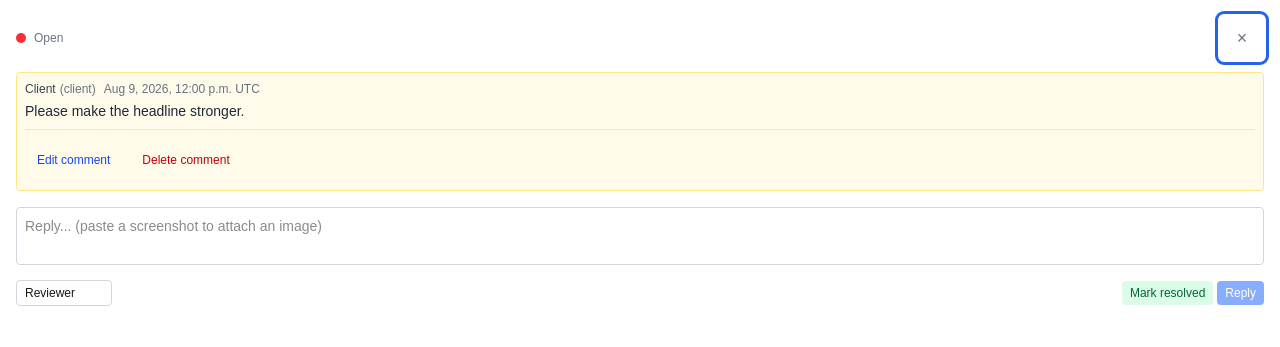
Test: PinThread comment lifecycle controls › requires an explicit confirmation before deleting a comment
Click the button "Delete comment" at (186, 160), box [130,138,242,182]
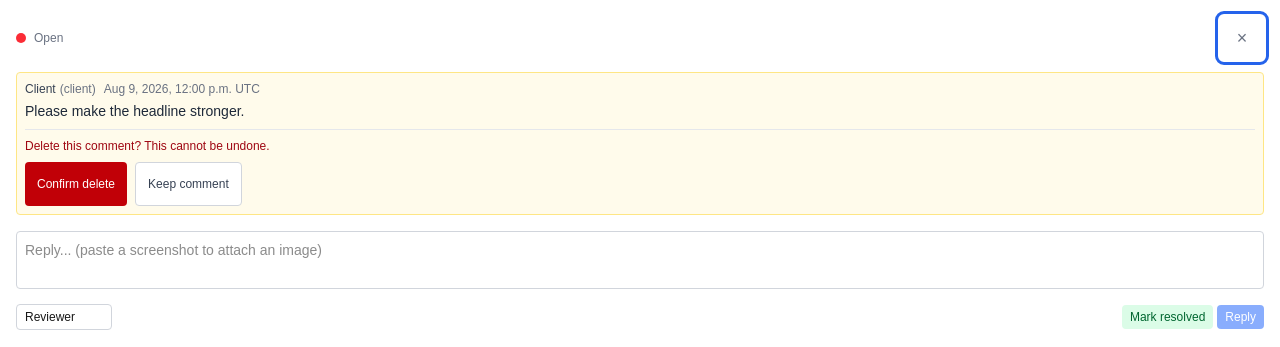
Now the text "This cannot be undone." is shown, box [25,139,270,153]
Click the button "Confirm delete" at (76, 184), box [25,162,127,206]
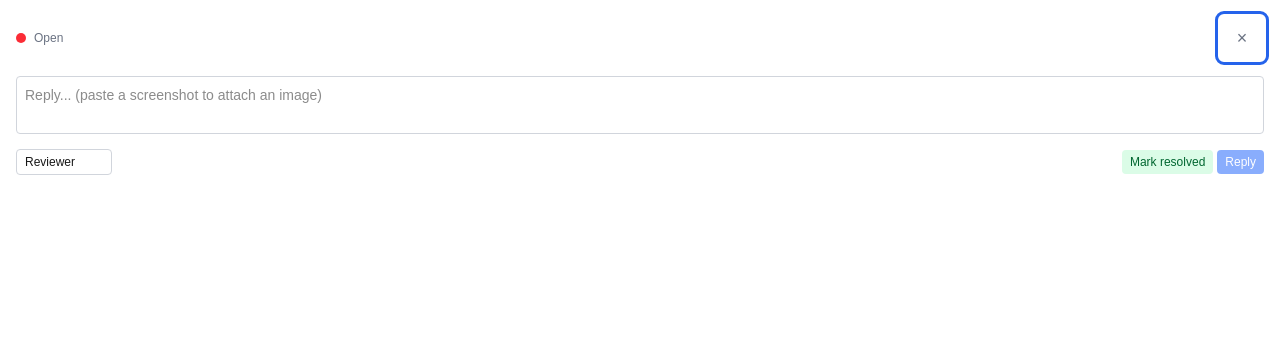
Now the text "Please make the headline stronger." is gone
